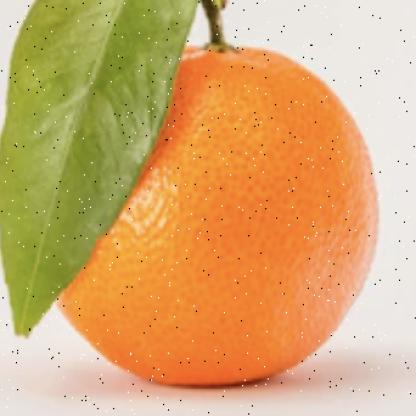fresh: (37, 37, 379, 392)
